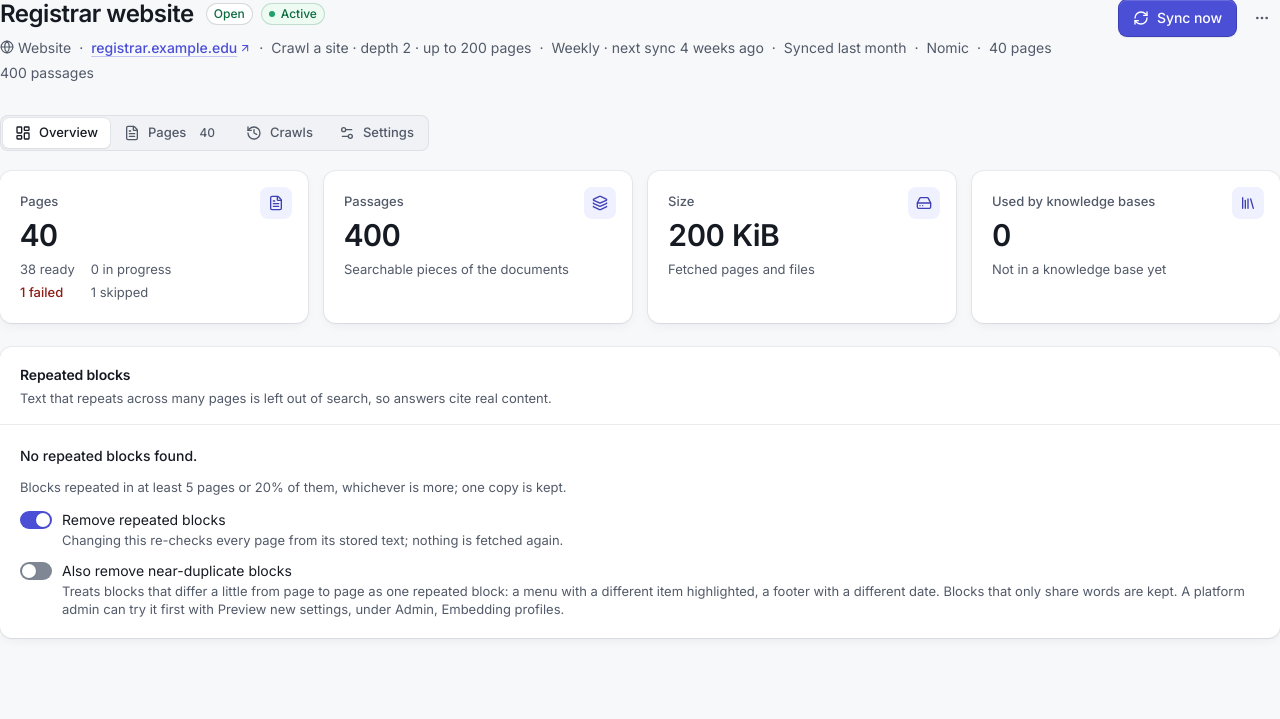
Test: documents table and sheet (Q4, W3) › re-fetches a web page from its sheet, and shows passages as plain text (W3)
The width and height of the screenshot is (1280, 719).
Step 1. Click the tab "Pages 40" → {"x": 172, "y": 133}, box [112,118,232,148]
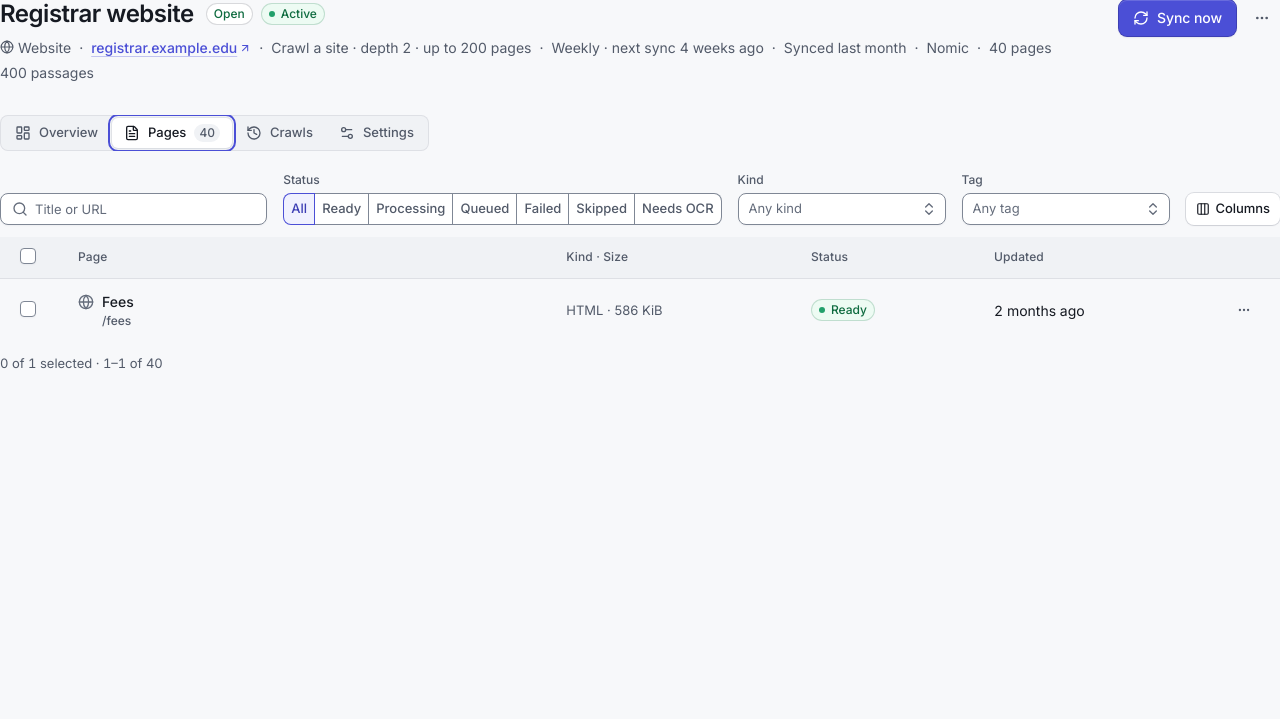
Step 2. Click the button "Fees /fees" → {"x": 190, "y": 310}, box [78,291,302,330]
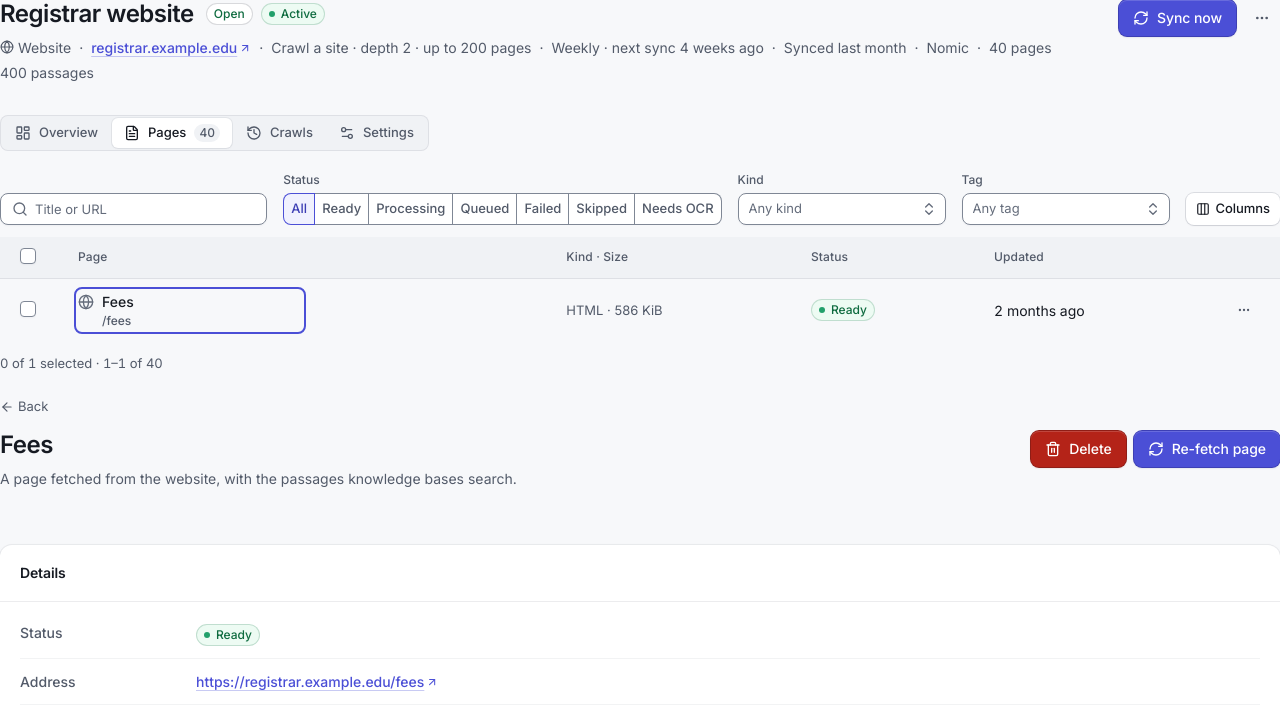
Step 3. Click the button "Re-fetch page" → {"x": 1207, "y": 449}, box [1134,431,1279,467]
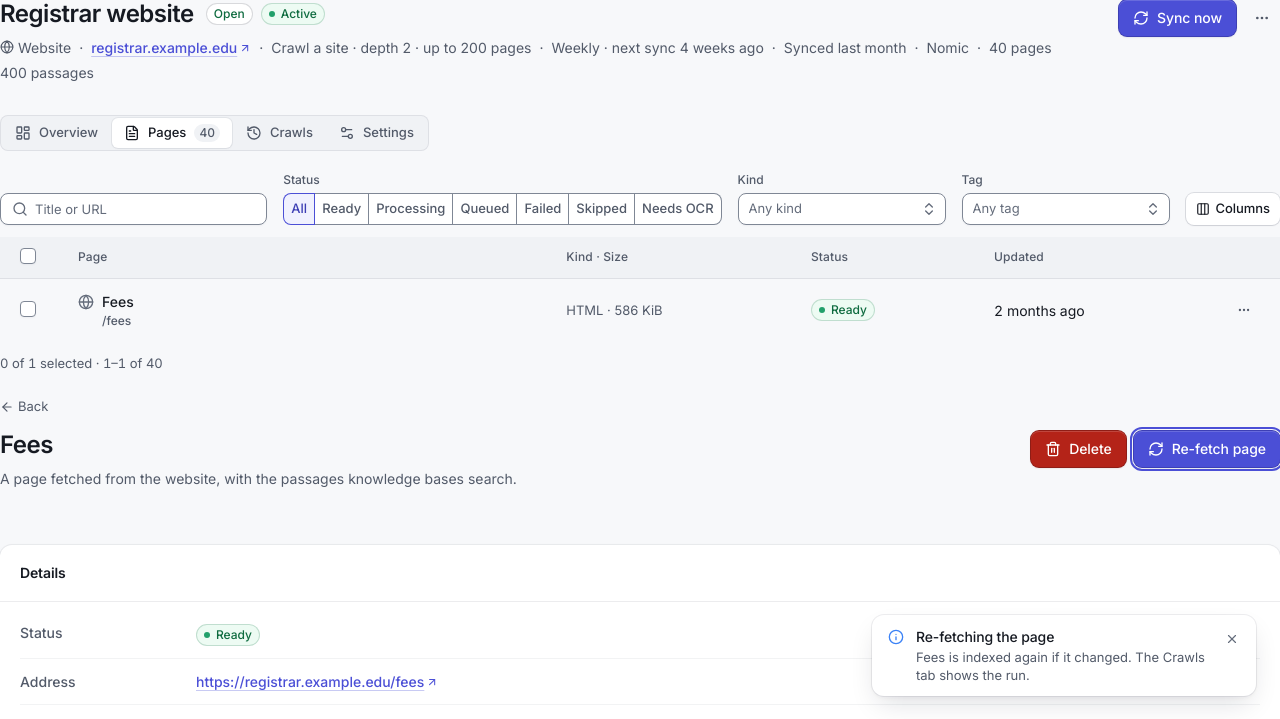
Now the heading "Re-fetching the page" is shown, box [916,628,1054,645]
